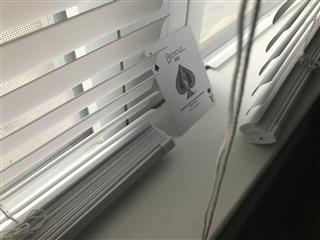AceOfSpades: (145, 23, 217, 136)
